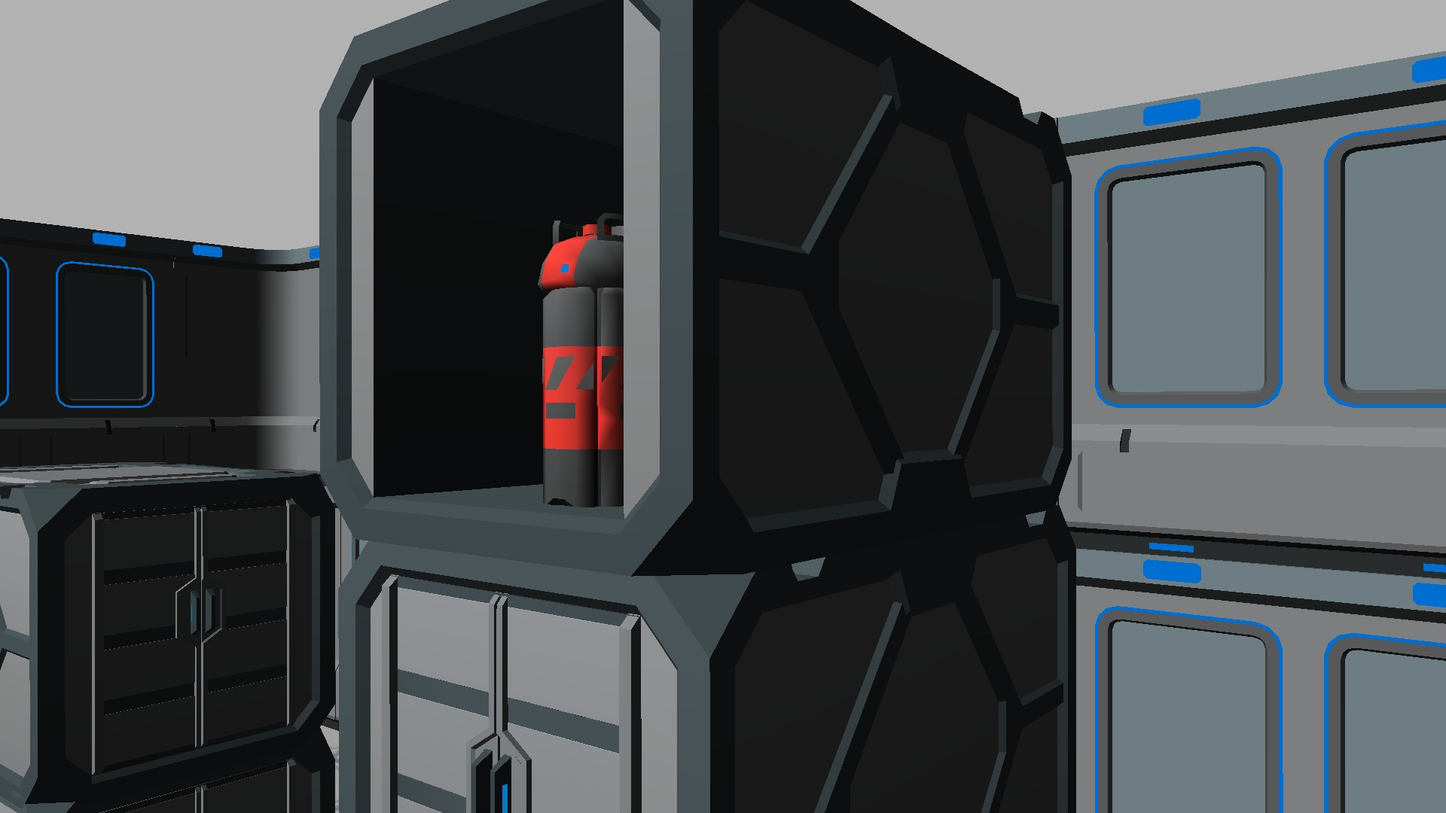red barrel: (537, 211, 624, 507)
